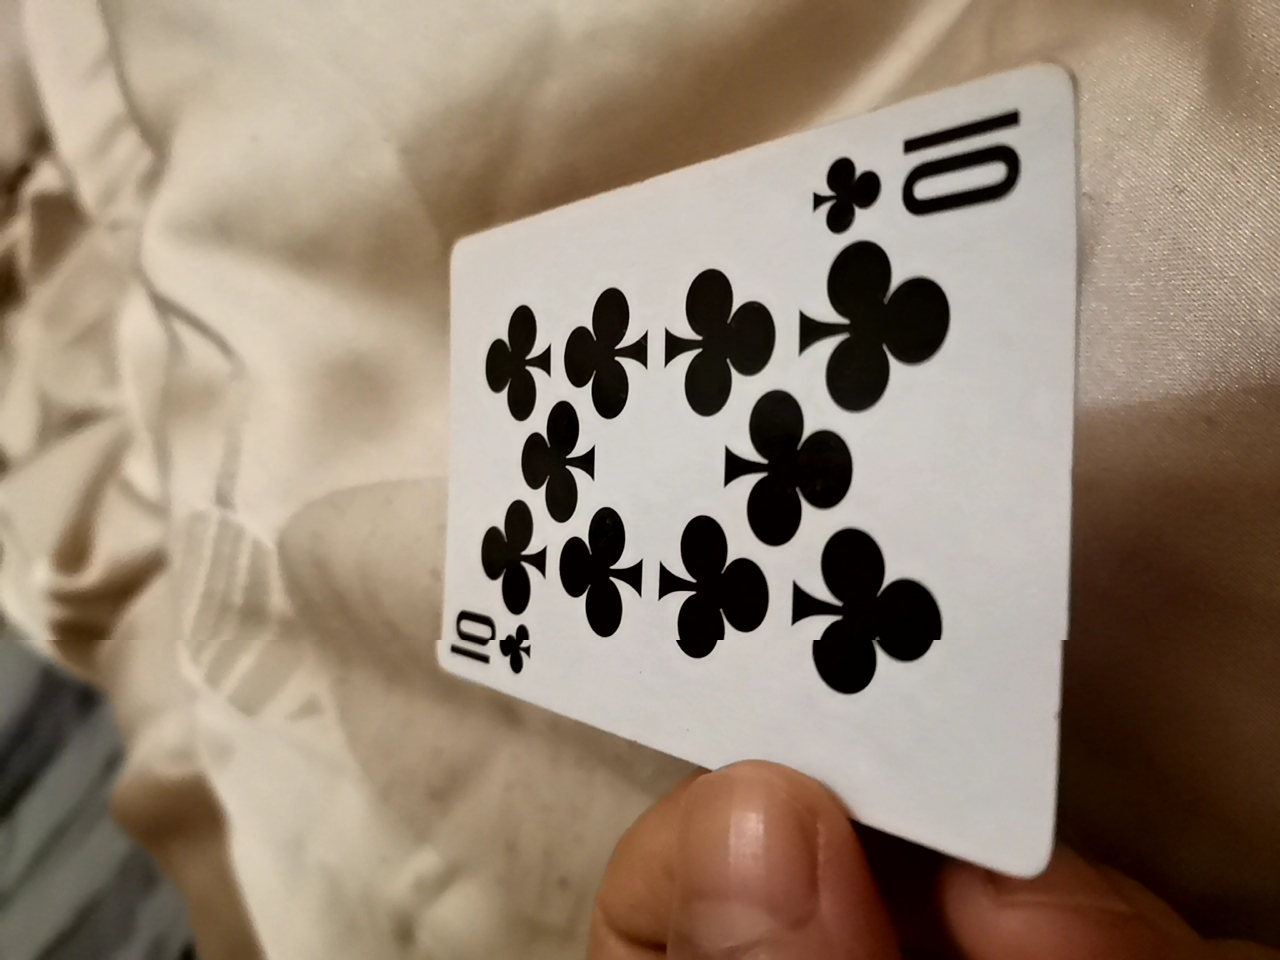mh 10: (408, 59, 1075, 876)
